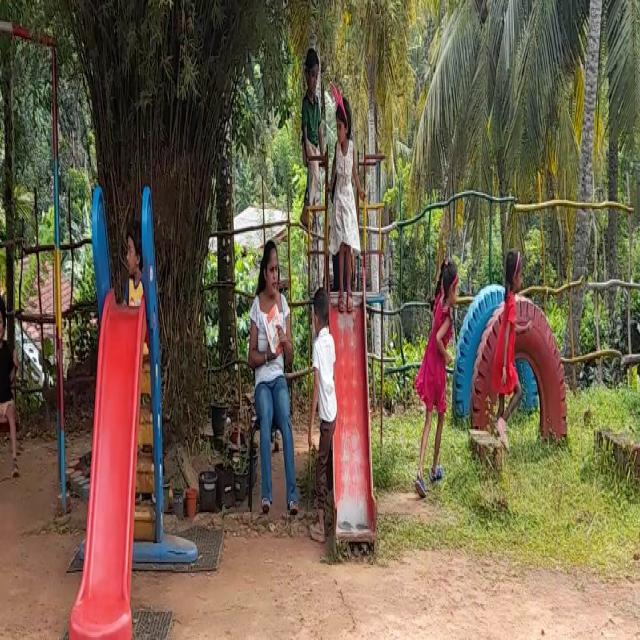adult: (239, 236, 298, 526)
child: (411, 256, 463, 495), (300, 293, 345, 541), (493, 248, 532, 434), (293, 53, 330, 236), (332, 92, 360, 308), (0, 297, 15, 487)
